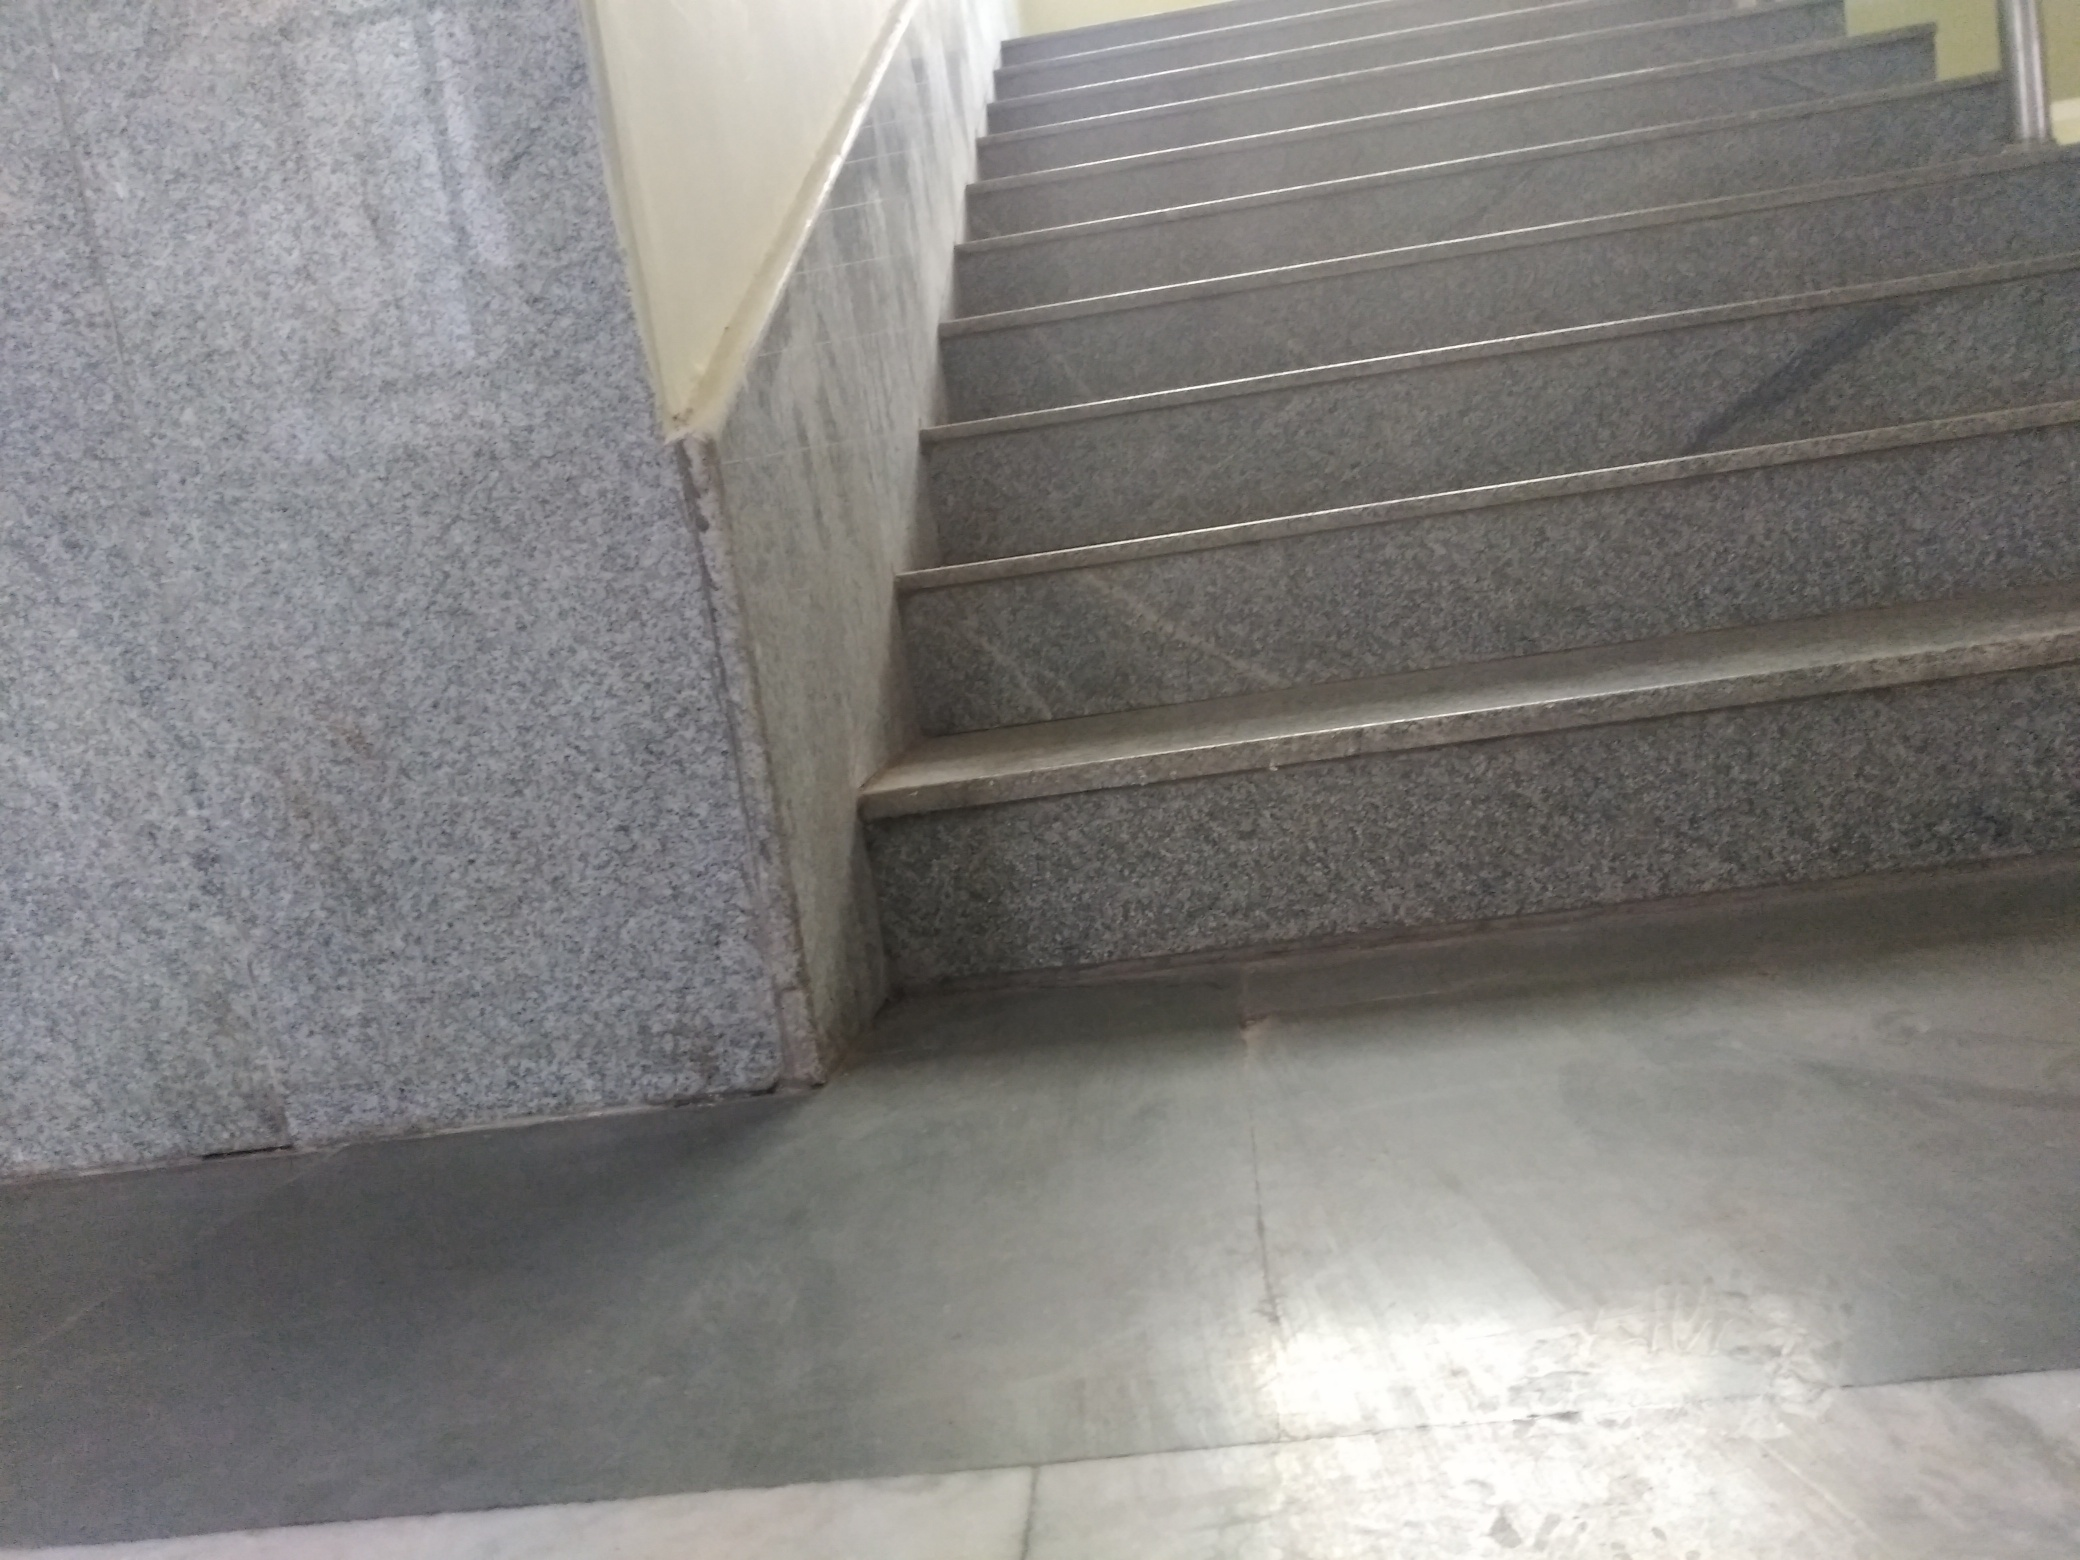stairs_up: (912, 11, 2080, 924)
